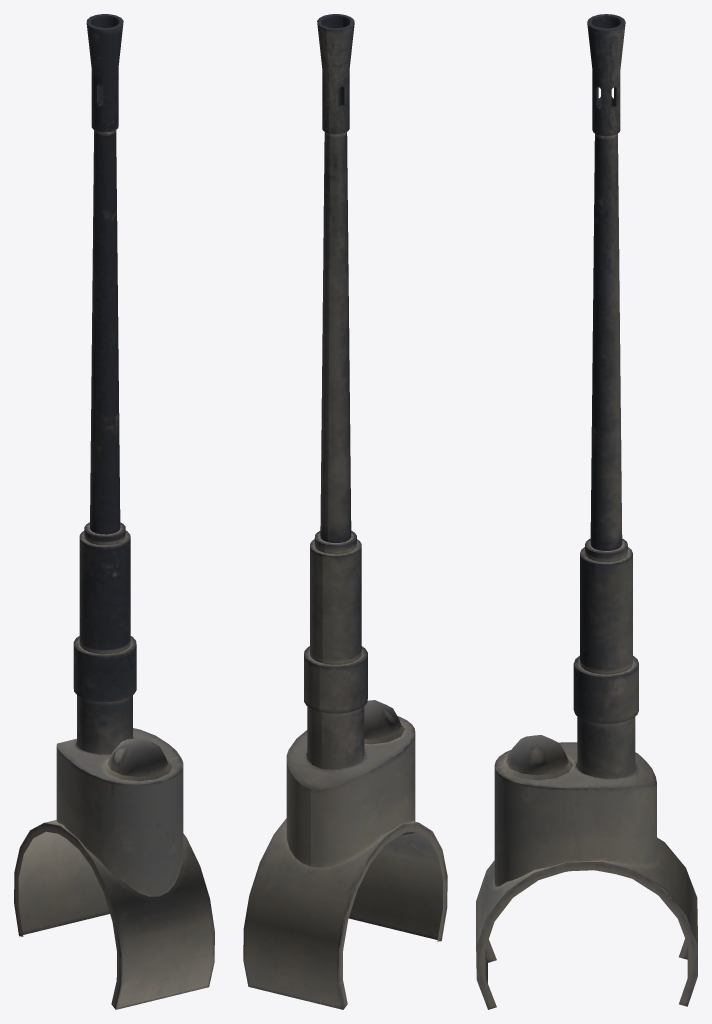
File: Gun_04.glb
The picture shows the model from 3 angles, left to right: view 1: azimuth 30°, elevation 25°; view 2: azimuth 150°, elevation 25°; view 3: azimuth 270°, elevation 25°; orthographic projection. The views are drawn at different scales.
Parts seen in each view (by area): view 1: set_0_group_0; view 2: set_0_group_0; view 3: set_0_group_0.
Part boxes in pixels (x1,y1,x2,y2): set_0_group_0: [14, 14, 214, 1009]; set_0_group_0: [243, 14, 447, 1009]; set_0_group_0: [476, 14, 697, 1009].
Bounding box in the file's own units: 0.1782 × 1.7 × 0.3553.
Materials: 1 (1 with a texture image).
